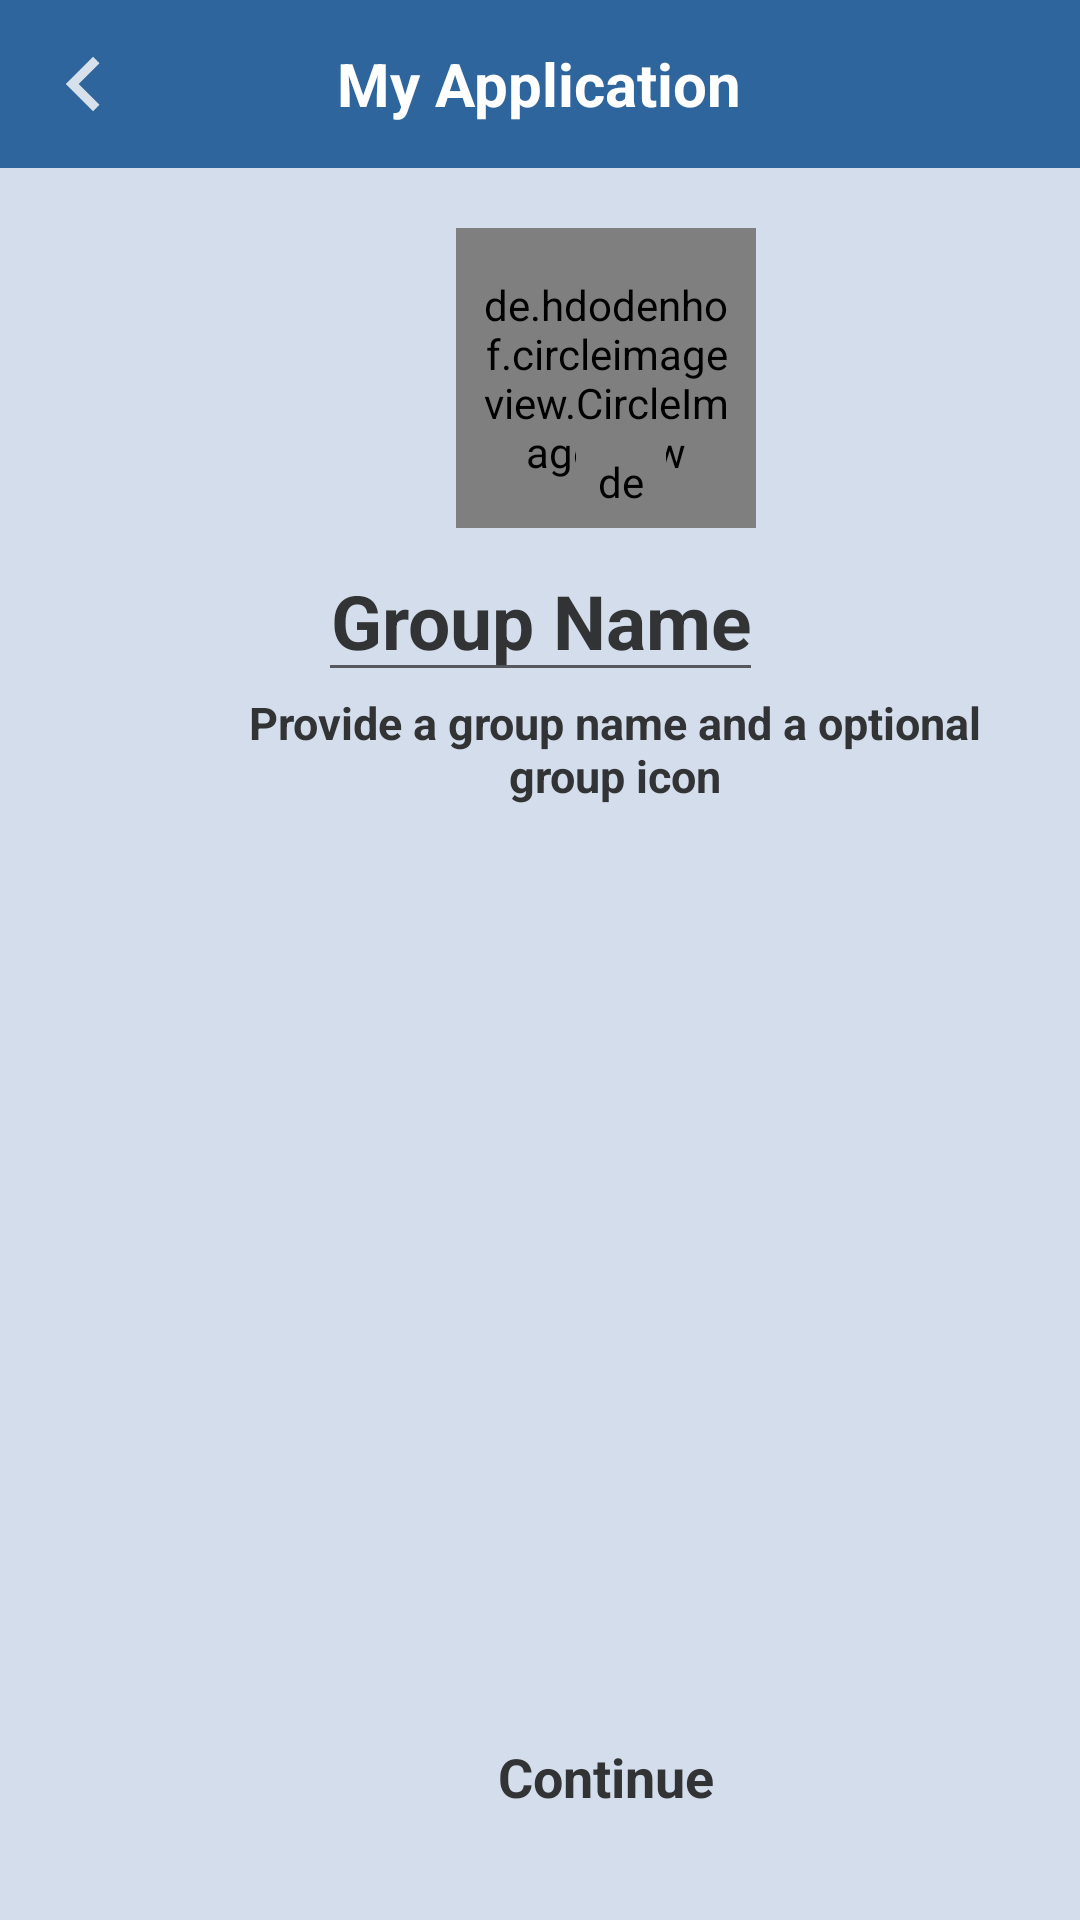

Where to tap for icons on this 1080 x 1920 app screen, as point (x, y):
back arrow: point (83, 84)
